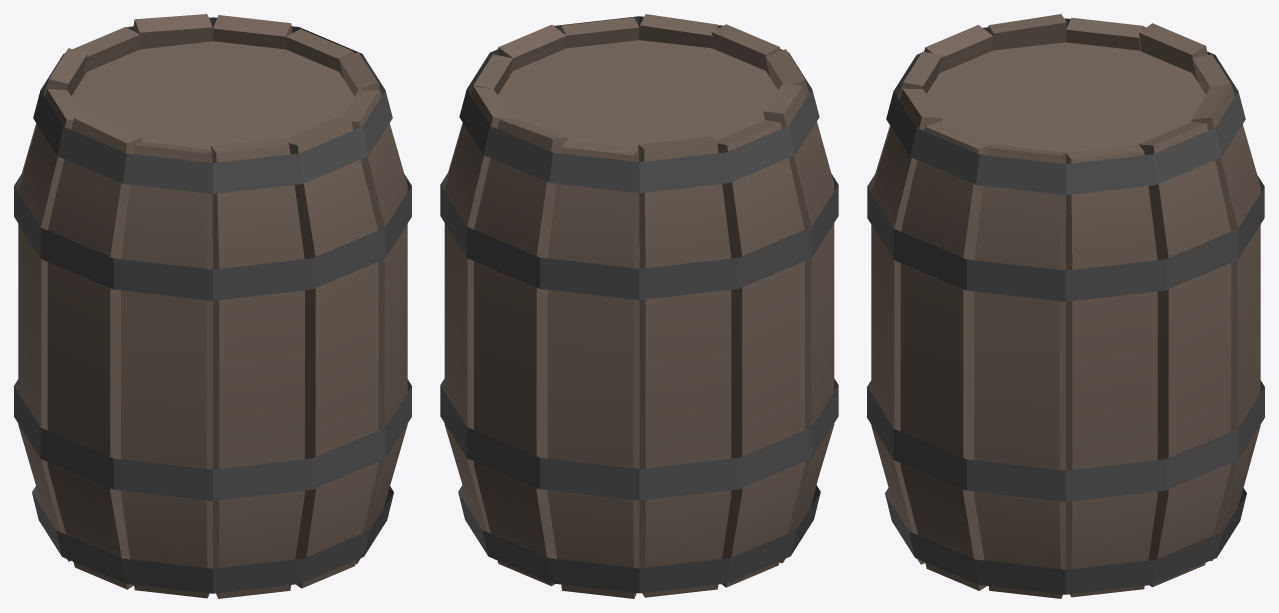
Rendered from SM_WoodenBarrel.fbx.
3 renders of one model, left to right at view 1: azimuth 30°, elevation 25°; view 2: azimuth 150°, elevation 25°; view 3: azimuth 270°, elevation 25°, orthographic.
Parts seen in each view (by area): view 1: polySurface33; view 2: polySurface33; view 3: polySurface33.
Part boxes in pixels (x1,y1,x2,y2): polySurface33: (14, 14, 411, 598); polySurface33: (440, 14, 838, 598); polySurface33: (867, 14, 1264, 598).
Bounding box in the file's own units: 273 × 342 × 273.
